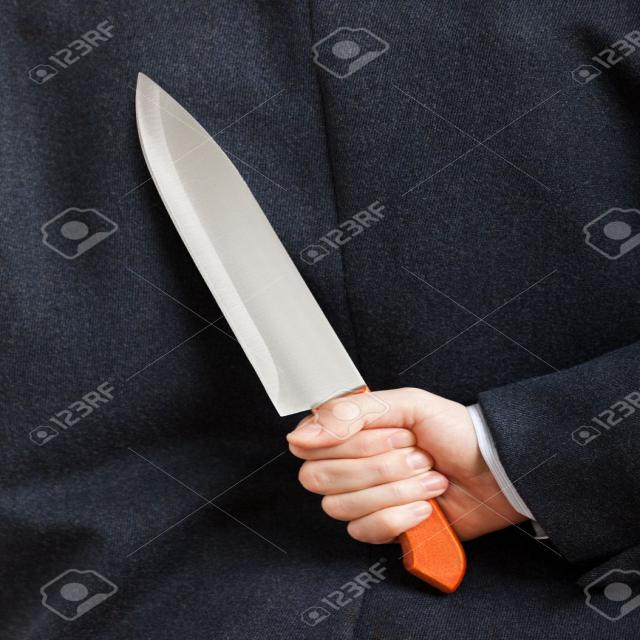knife: (128, 64, 378, 420)
